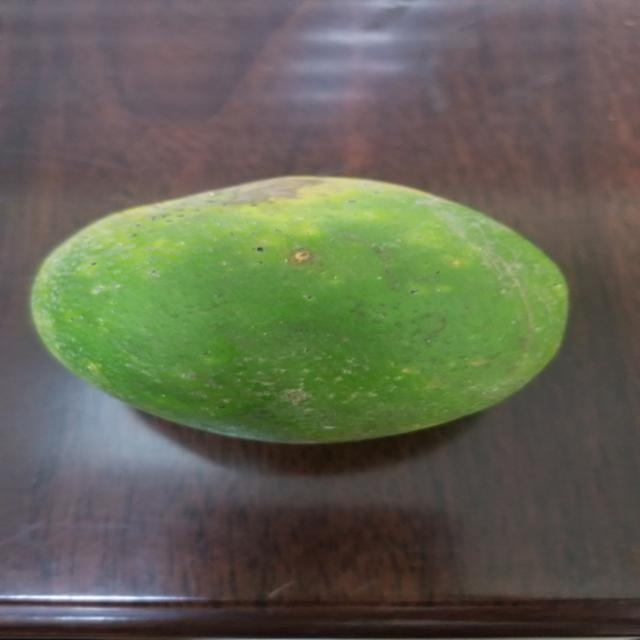agrume: (29, 165, 591, 448)
